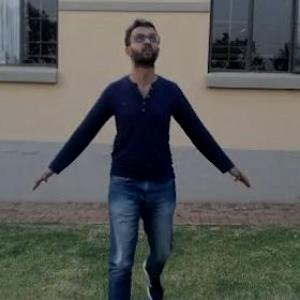land: (1, 1, 254, 293)
